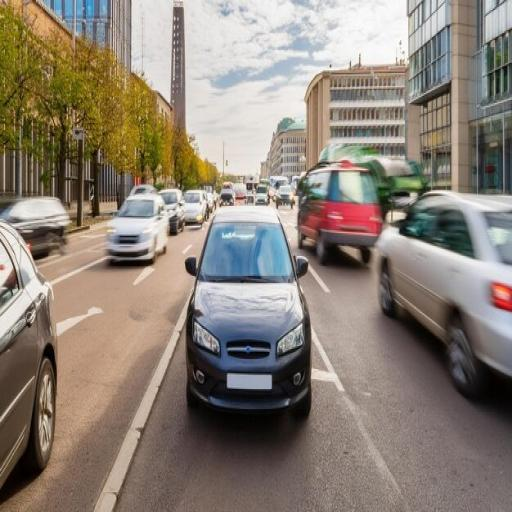car: (375, 189, 511, 399), (184, 203, 312, 418), (0, 217, 58, 492), (294, 155, 385, 260), (104, 169, 172, 273), (0, 194, 71, 259), (159, 182, 185, 232), (186, 187, 208, 232)
